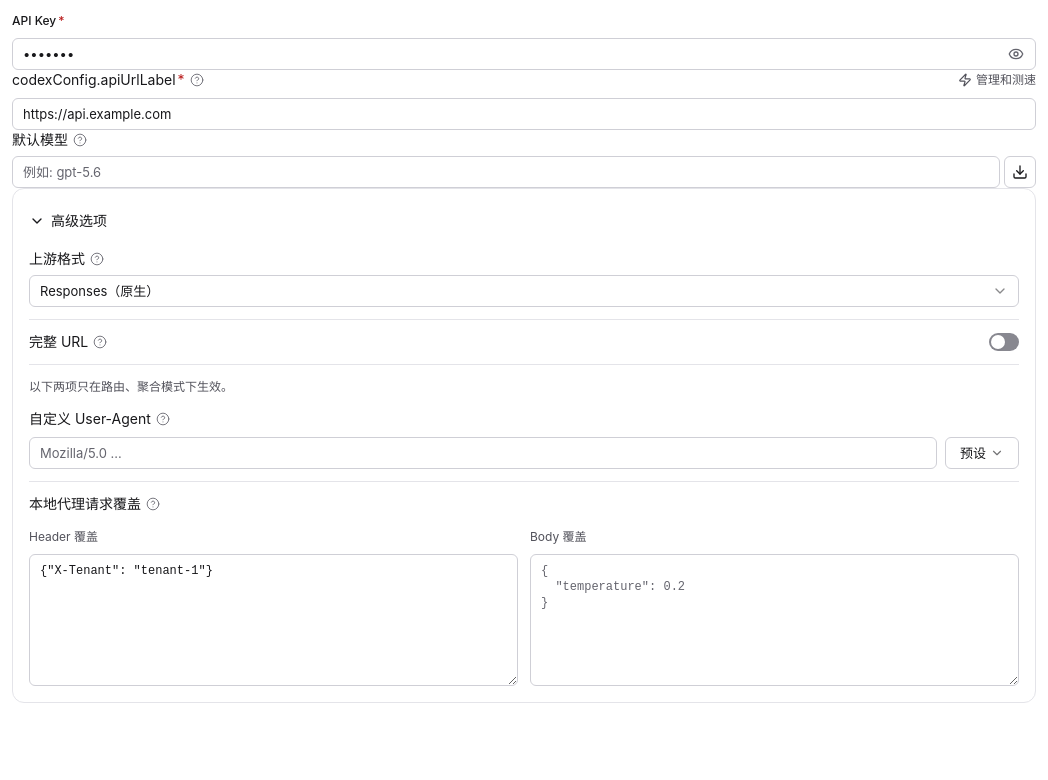
CodexFormFields model fetch identity › 修改 Header 覆盖后清空已取到的模型列表
The image size is (1048, 780).
Later steps or results of the test are not shown.
Click the button named "providerForm.fetchModels": (1020, 172) x1=1004 y1=156 x2=1036 y2=188
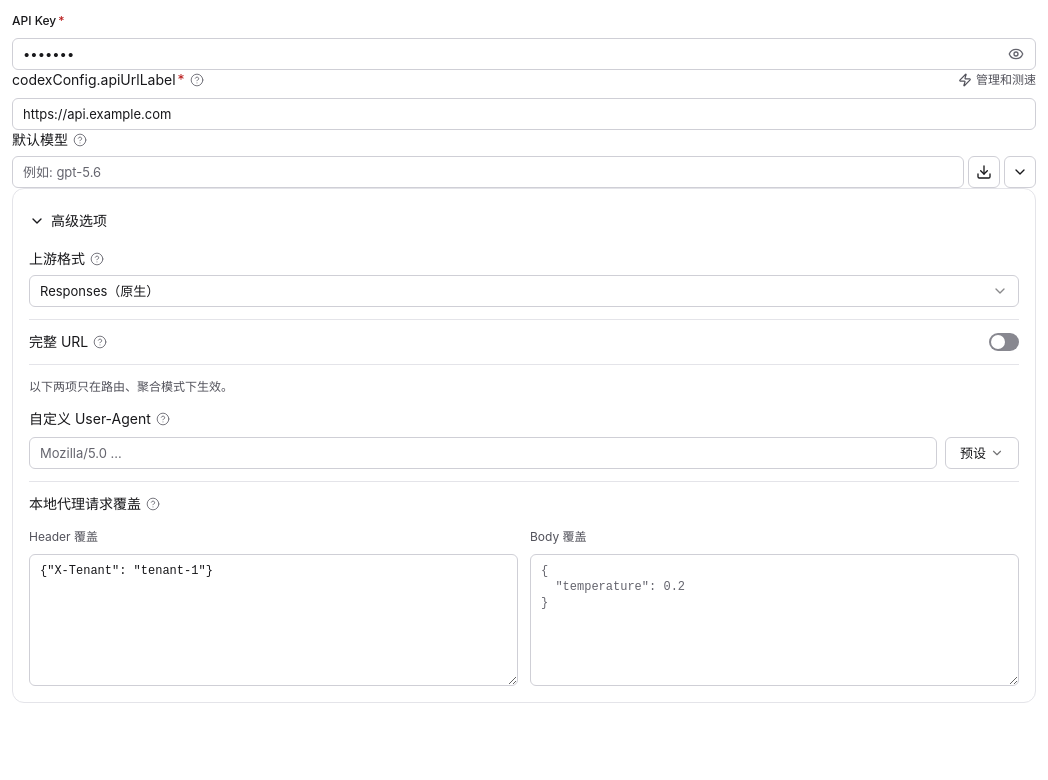
Check: the button named "Select model" is shown, box x1=1004 y1=156 x2=1036 y2=188
